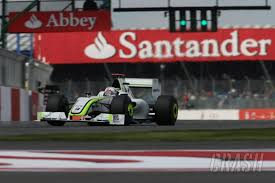FormulaOneCar: (33, 71, 180, 129)
